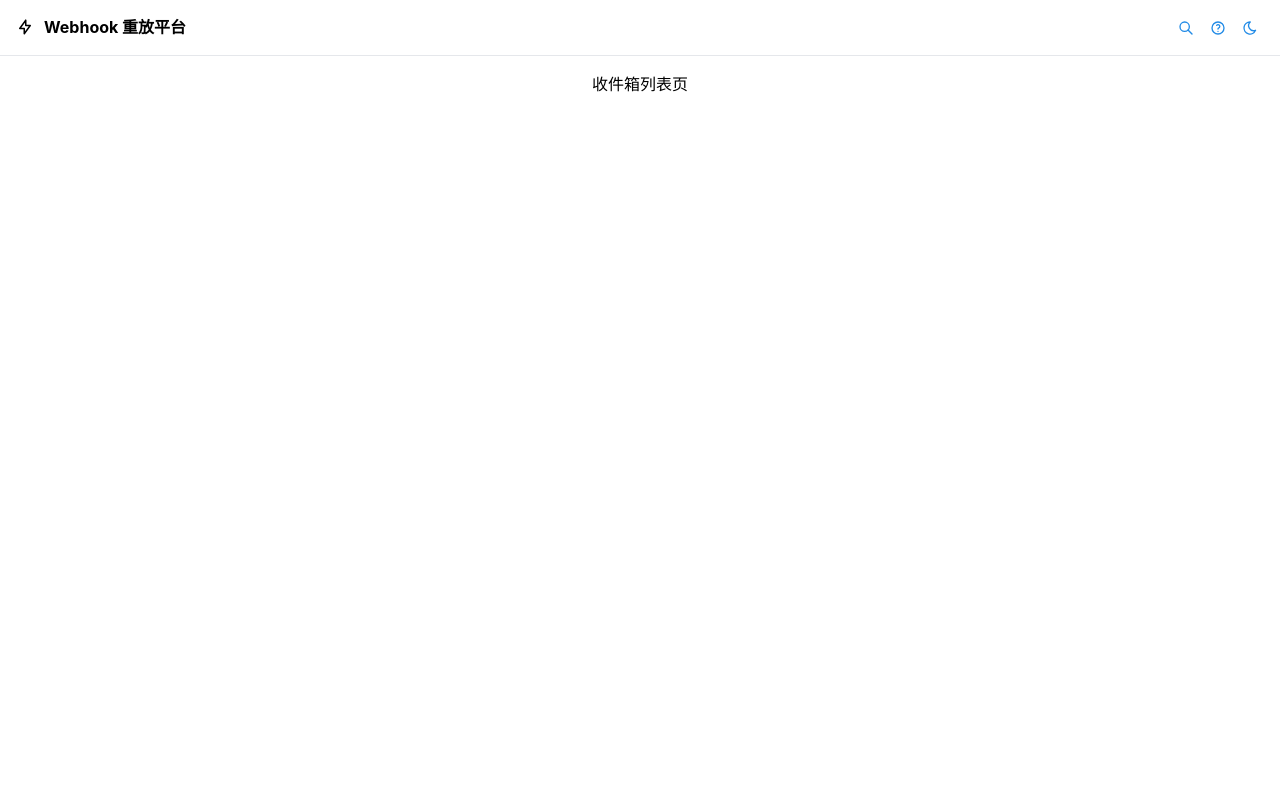
Test: Layout command palette › filters by name as you type
Type keys "{Control>}k{/Control}"
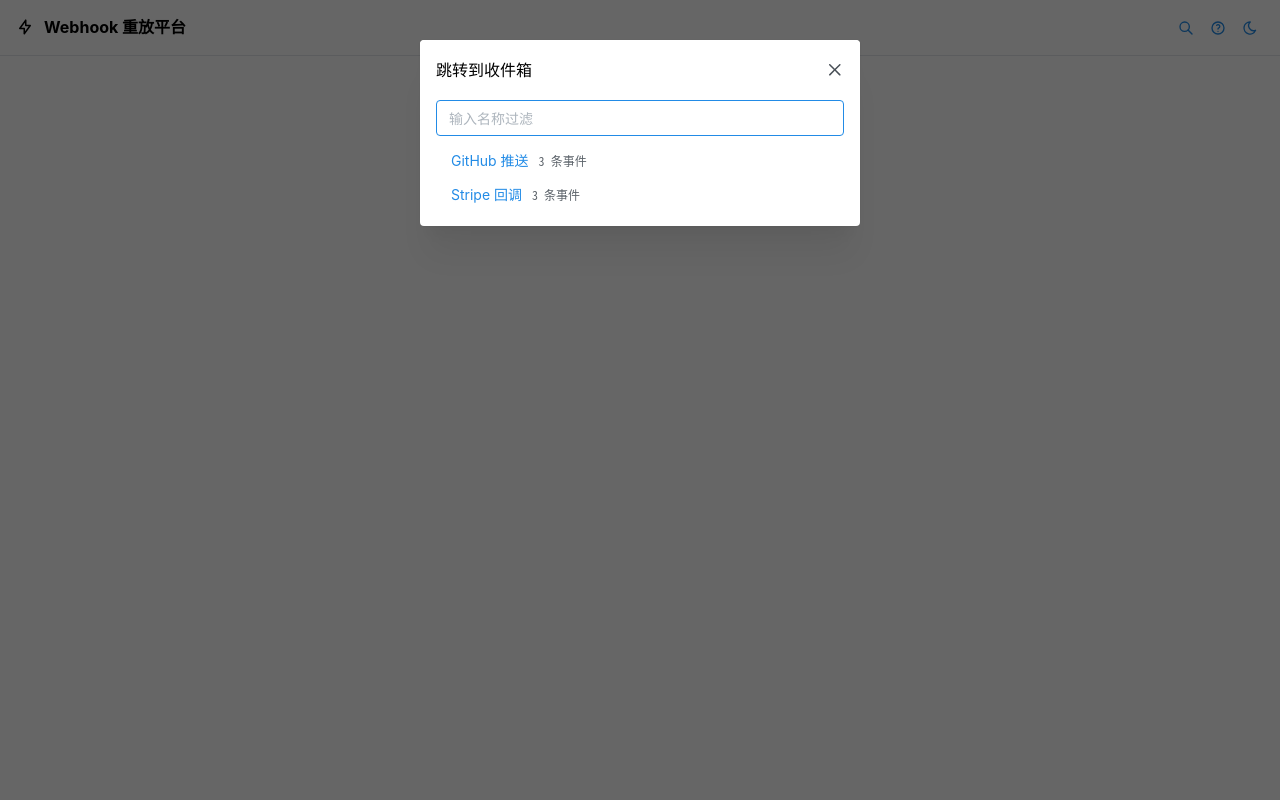
Type "stripe" into the field labelled "输入名称过滤" at (640, 118), box [436, 100, 844, 136]
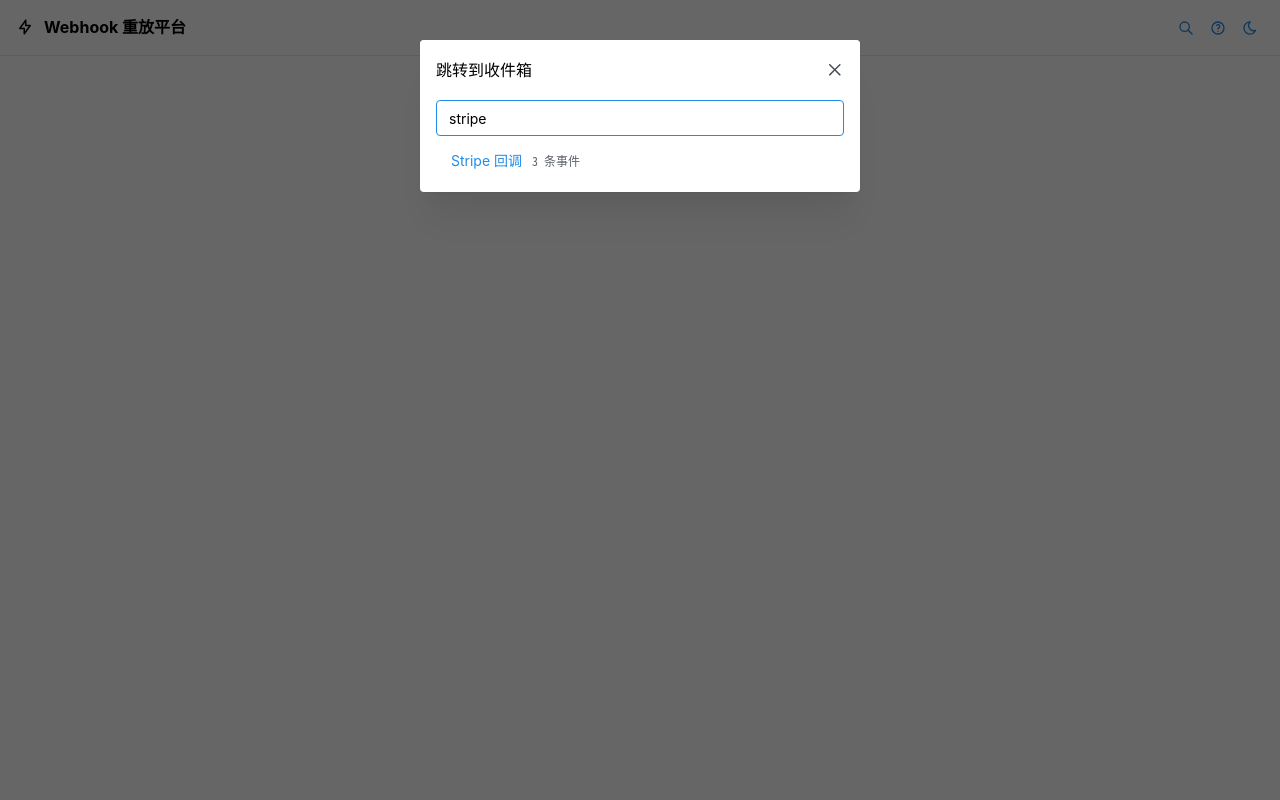
Now the text "Stripe 回调" is shown, box [451, 150, 522, 172]
Now the button "GitHub 推送" is gone
